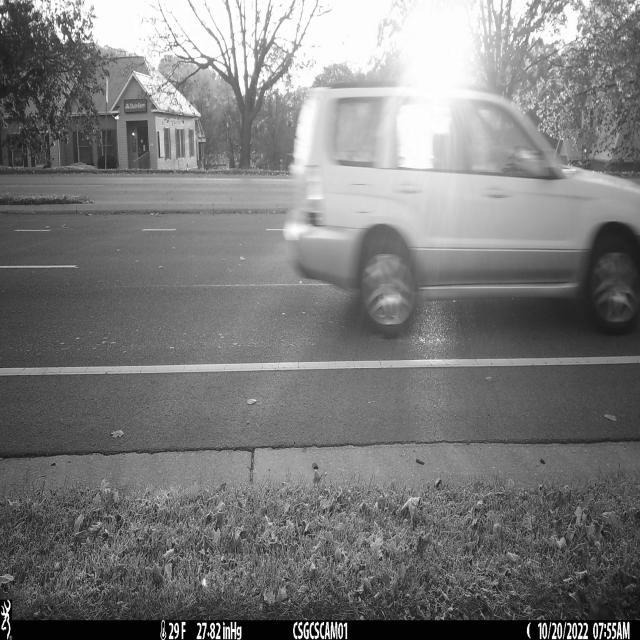SUV: (282, 85, 640, 338)
